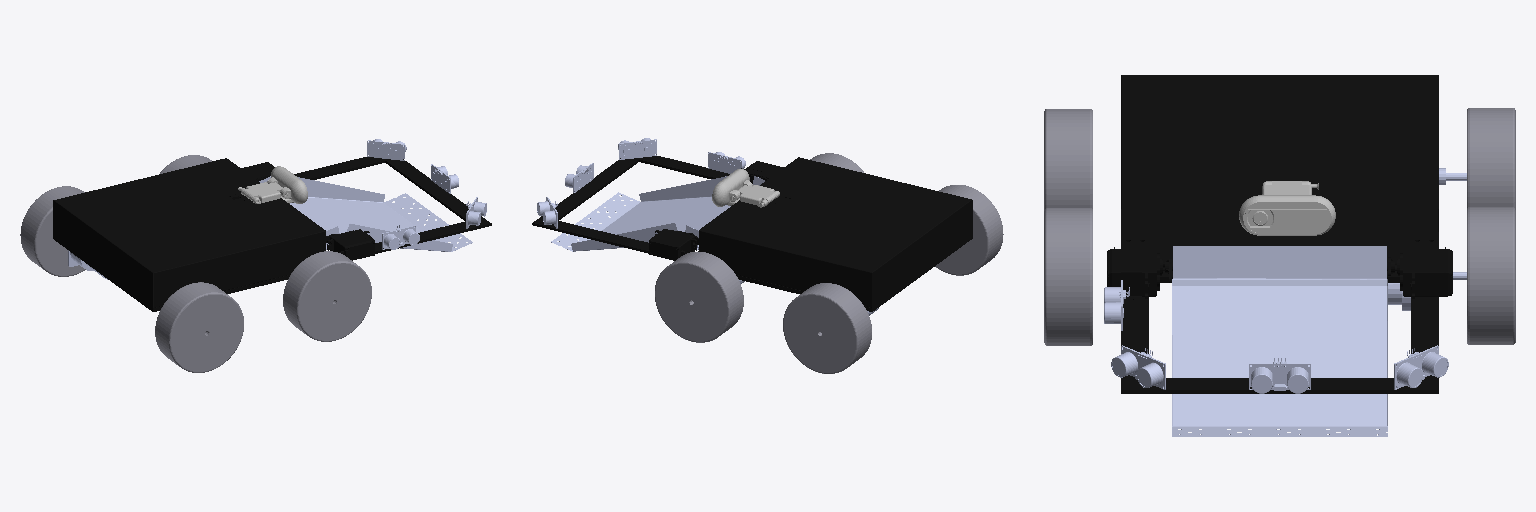
--- Facts derived from the render (not from the file) ---
The picture shows the robot from 3 angles, left to right: view 1: azimuth 30°, elevation 25°; view 2: azimuth 150°, elevation 25°; view 3: azimuth 270°, elevation 25°; orthographic projection.
Model swcr with 20 links and 19 joints (1 revolute, 4 continuous, 14 fixed), rooted at base_link, posed every joint at zero.
Links seen in each view (by area): view 1: base_link, wheelbr_link, wheelfr_link, pan_link, wheelbl_link, camera_link, sonar4_link, sonar1_link; view 2: base_link, wheelbl_link, wheelfl_link, pan_link, wheelbr_link, camera_link, sonar2_link, sonar1_link; view 3: base_link, pan_link, wheelfl_link, wheelfr_link, wheelbl_link, wheelbr_link, camera_link, sonar3_link, sonar2_link, sonar4_link, sonar1_link, motorfl_link.
Link boxes in pixels (x1,y1,x2,y2): base_link: (53,157,491,311); wheelbr_link: (155,282,243,372); wheelfr_link: (283,251,371,341); pan_link: (259,176,472,251); wheelbl_link: (20,186,85,276); camera_link: (238,166,307,203); sonar4_link: (367,139,406,160); sonar1_link: (382,225,419,249); base_link: (532,156,972,311); wheelbl_link: (783,283,871,373); wheelfl_link: (655,252,743,342); pan_link: (551,176,764,251); wheelbr_link: (935,185,1003,275); camera_link: (712,169,779,207); sonar2_link: (618,138,656,159); sonar1_link: (708,152,745,173); base_link: (1107,75,1452,393); pan_link: (1172,246,1387,436); wheelfl_link: (1467,207,1515,344); wheelfr_link: (1044,208,1092,345); wheelbl_link: (1467,108,1515,209); wheelbr_link: (1044,109,1092,210); camera_link: (1239,181,1335,235); sonar3_link: (1249,358,1310,393); sonar2_link: (1111,345,1165,389); sonar4_link: (1394,345,1448,389); sonar1_link: (1104,280,1129,330); motorfl_link: (1388,272,1466,310).
Size in the robot's own frame: 0.4747 by 0.3406 by 0.1337 metres.
Meshes: 20 distinct files referenced, 16 mesh visuals loaded (16 binary STL); not drawn: 4 (reference not matched to a file when rendering).

robot.urdf — swcr:
<?xml version="1.0" encoding="utf-8"?>
<!-- This URDF was automatically created by SolidWorks to URDF Exporter! Originally created by Stephen Brawner ([email redacted]) 
     Commit Version: 1.5.1-0-g916b5db  Build Version: 1.5.7152.31018
     For more information, please see http://wiki.ros.org/sw_urdf_exporter -->
<robot
  name="swcr">
  <link
    name="base_link">
    <inertial>
      <origin
        xyz="0.033488 0.002401 3.727E-05"
        rpy="0 0 0" />
      <mass
        value="0.43099" />
      <inertia
        ixx="0.0023524"
        ixy="-7.52E-05"
        ixz="-1.7767E-06"
        iyy="0.0069009"
        iyz="-2.5498E-07"
        izz="0.0045936" />
    </inertial>
    <visual>
      <origin
        xyz="0 0 0"
        rpy="0 0 0" />
      <geometry>
        <mesh
          filename="package://swcr/meshes/base_link.STL" />
      </geometry>
      <material
        name="">
        <color
          rgba="0.10196 0.10196 0.10196 1" />
      </material>
    </visual>
    <collision>
      <origin
        xyz="0 0 0"
        rpy="0 0 0" />
      <geometry>
        <mesh
          filename="package://swcr/meshes/base_link.STL" />
      </geometry>
    </collision>
  </link>
  <link
    name="clampfl_link">
    <inertial>
      <origin
        xyz="0 -0.00794730952655254 -0.00531690587434677"
        rpy="0 0 0" />
      <mass
        value="0.00225642305883932" />
      <inertia
        ixx="5.27399681512764E-07"
        ixy="-3.48854888729488E-22"
        ixz="-1.00782078400116E-22"
        iyy="4.60834249766667E-07"
        iyz="1.05062552841159E-07"
        izz="8.15954753495241E-07" />
    </inertial>
    <visual>
      <origin
        xyz="0 0 0"
        rpy="0 0 0" />
      <geometry>
        <mesh
          filename="package://swcr/meshes/clampfl_link.STL" />
      </geometry>
      <material
        name="">
        <color
          rgba="0.792156862745098 0.819607843137255 0.933333333333333 1" />
      </material>
    </visual>
    <collision>
      <origin
        xyz="0 0 0"
        rpy="0 0 0" />
      <geometry>
        <mesh
          filename="package://swcr/meshes/clampfl_link.STL" />
      </geometry>
    </collision>
  </link>
  <joint
    name="clampfl_joint"
    type="fixed">
    <origin
      xyz="0.085 0.115 -0.0055"
      rpy="1.5708 0 3.1416" />
    <parent
      link="base_link" />
    <child
      link="clampfl_link" />
    <axis
      xyz="0 0 0" />
  </joint>
  <link
    name="motorfl_link">
    <inertial>
      <origin
        xyz="-2.77555756156289E-17 0.000222599770393128 -0.0130762328986528"
        rpy="0 0 0" />
      <mass
        value="0.0508582882474789" />
      <inertia
        ixx="2.23164516779721E-05"
        ixy="-8.470329472543E-22"
        ixz="9.26442286059391E-22"
        iyy="2.22397244366029E-05"
        iyz="-4.37293213045901E-07"
        izz="6.78559817500315E-06" />
    </inertial>
    <visual>
      <origin
        xyz="0 0 0"
        rpy="0 0 0" />
      <geometry>
        <mesh
          filename="package://swcr/meshes/motorfl_link.STL" />
      </geometry>
      <material
        name="">
        <color
          rgba="0.792156862745098 0.819607843137255 0.933333333333333 1" />
      </material>
    </visual>
    <collision>
      <origin
        xyz="0 0 0"
        rpy="0 0 0" />
      <geometry>
        <mesh
          filename="package://swcr/meshes/motorfl_link.STL" />
      </geometry>
    </collision>
  </link>
  <joint
    name="motorfl_joint"
    type="fixed">
    <origin
      xyz="0 -0.017565 -0.014"
      rpy="0 0 -0.39309" />
    <parent
      link="clampfl_link" />
    <child
      link="motorfl_link" />
    <axis
      xyz="0 0 0" />
  </joint>
  <link
    name="wheelfl_link">
    <inertial>
      <origin
        xyz="-0.0175 0 0"
        rpy="0 0 0" />
      <mass
        value="0.317103656626172" />
      <inertia
        ixx="0.000397061568421802"
        ixy="3.99430910495104E-22"
        ixz="-5.97755086664019E-21"
        iyy="0.000230784706182798"
        iyz="0"
        izz="0.000230784706182798" />
    </inertial>
    <visual>
      <origin
        xyz="0 0 0"
        rpy="0 0 0" />
      <geometry>
        <mesh
          filename="package://swcr/meshes/wheelfl_link.STL" />
      </geometry>
      <material
        name="">
        <color
          rgba="0.588235294117647 0.588235294117647 0.631372549019608 1" />
      </material>
    </visual>
    <collision>
      <origin
        xyz="0 0 0"
        rpy="0 0 0" />
      <geometry>
        <mesh
          filename="package://swcr/meshes/wheelfl_link.STL" />
      </geometry>
    </collision>
  </link>
  <joint
    name="wheelfl_joint"
    type="continuous">
    <origin
      xyz="0 0.007 0.0343"
      rpy="1.901 1.5708 0" />
    <parent
      link="motorfl_link" />
    <child
      link="wheelfl_link" />
    <axis
      xyz="1 0 0" />
  </joint>
  <link
    name="clampfr_link">
    <inertial>
      <origin
        xyz="0 -0.00794730952655252 -0.00531690587434674"
        rpy="0 0 0" />
      <mass
        value="0.00225642305883932" />
      <inertia
        ixx="5.27399681512763E-07"
        ixy="-3.76646610045922E-22"
        ixz="-7.60548081235195E-23"
        iyy="4.60834249766665E-07"
        iyz="1.0506255284116E-07"
        izz="8.1595475349524E-07" />
    </inertial>
    <visual>
      <origin
        xyz="0 0 0"
        rpy="0 0 0" />
      <geometry>
        <mesh
          filename="package://swcr/meshes/clampfr_link.STL" />
      </geometry>
      <material
        name="">
        <color
          rgba="0.792156862745098 0.819607843137255 0.933333333333333 1" />
      </material>
    </visual>
    <collision>
      <origin
        xyz="0 0 0"
        rpy="0 0 0" />
      <geometry>
        <mesh
          filename="package://swcr/meshes/clampfr_link.STL" />
      </geometry>
    </collision>
  </link>
  <joint
    name="clampfr_joint"
    type="fixed">
    <origin
      xyz="0.085 -0.115 -0.0055"
      rpy="1.5708 0 0" />
    <parent
      link="base_link" />
    <child
      link="clampfr_link" />
    <axis
      xyz="0 0 0" />
  </joint>
  <link
    name="motorfr_link">
    <inertial>
      <origin
        xyz="0 0.000222599770393128 -0.0130762328986528"
        rpy="0 0 0" />
      <mass
        value="0.0508582882474789" />
      <inertia
        ixx="2.23164516779721E-05"
        ixy="4.89465702383976E-23"
        ixz="9.48921012034999E-22"
        iyy="2.22397244366029E-05"
        iyz="-4.37293213045901E-07"
        izz="6.78559817500315E-06" />
    </inertial>
    <visual>
      <origin
        xyz="0 0 0"
        rpy="0 0 0" />
      <geometry>
        <mesh
          filename="package://swcr/meshes/motorfr_link.STL" />
      </geometry>
      <material
        name="">
        <color
          rgba="0.792156862745098 0.819607843137255 0.933333333333333 1" />
      </material>
    </visual>
    <collision>
      <origin
        xyz="0 0 0"
        rpy="0 0 0" />
      <geometry>
        <mesh
          filename="package://swcr/meshes/motorfr_link.STL" />
      </geometry>
    </collision>
  </link>
  <joint
    name="motorfr_joint"
    type="fixed">
    <origin
      xyz="0 -0.017565 -0.014"
      rpy="0 0 0" />
    <parent
      link="clampfr_link" />
    <child
      link="motorfr_link" />
    <axis
      xyz="0 0 0" />
  </joint>
  <link
    name="wheelfr_link">
    <inertial>
      <origin
        xyz="-0.0175 0 0"
        rpy="0 0 0" />
      <mass
        value="0.317103656626173" />
      <inertia
        ixx="0.000397061568421803"
        ixy="-1.88067547833225E-21"
        ixz="4.10331208188529E-21"
        iyy="0.000230784706182798"
        iyz="2.03287907341032E-20"
        izz="0.000230784706182798" />
    </inertial>
    <visual>
      <origin
        xyz="0 0 0"
        rpy="0 0 0" />
      <geometry>
        <mesh
          filename="package://swcr/meshes/wheelfr_link.STL" />
      </geometry>
      <material
        name="">
        <color
          rgba="0.588235294117647 0.588235294117647 0.631372549019608 1" />
      </material>
    </visual>
    <collision>
      <origin
        xyz="0 0 0"
        rpy="0 0 0" />
      <geometry>
        <mesh
          filename="package://swcr/meshes/wheelfr_link.STL" />
      </geometry>
    </collision>
  </link>
  <joint
    name="wheelfr_joint"
    type="continuous">
    <origin
      xyz="0 0.007 0.0343"
      rpy="1.1331 1.5708 0" />
    <parent
      link="motorfr_link" />
    <child
      link="wheelfr_link" />
    <axis
      xyz="1 0 0" />
  </joint>
  <link
    name="clampbl_link">
    <inertial>
      <origin
        xyz="1.38777878078145E-17 -0.00794730952655256 -0.00531690587434672"
        rpy="0 0 0" />
      <mass
        value="0.00225642305883932" />
      <inertia
        ixx="5.27399681512766E-07"
        ixy="-3.6279892711689E-22"
        ixz="-1.06821018648135E-22"
        iyy="4.60834249766667E-07"
        iyz="1.0506255284116E-07"
        izz="8.15954753495242E-07" />
    </inertial>
    <visual>
      <origin
        xyz="0 0 0"
        rpy="0 0 0" />
      <geometry>
        <mesh
          filename="package://swcr/meshes/clampbl_link.STL" />
      </geometry>
      <material
        name="">
        <color
          rgba="0.792156862745098 0.819607843137255 0.933333333333333 1" />
      </material>
    </visual>
    <collision>
      <origin
        xyz="0 0 0"
        rpy="0 0 0" />
      <geometry>
        <mesh
          filename="package://swcr/meshes/clampbl_link.STL" />
      </geometry>
    </collision>
  </link>
  <joint
    name="clampbl_joint"
    type="fixed">
    <origin
      xyz="-0.085 0.115 -0.0055"
      rpy="1.5708 0 3.1416" />
    <parent
      link="base_link" />
    <child
      link="clampbl_link" />
    <axis
      xyz="0 0 0" />
  </joint>
  <link
    name="motorbl_link">
    <inertial>
      <origin
        xyz="0 0.000222599770393128 -0.0130762328986527"
        rpy="0 0 0" />
      <mass
        value="0.0508582882474789" />
      <inertia
        ixx="2.23164516779721E-05"
        ixy="-8.470329472543E-22"
        ixz="9.52912065661088E-22"
        iyy="2.22397244366029E-05"
        iyz="-4.37293213045901E-07"
        izz="6.78559817500315E-06" />
    </inertial>
    <visual>
      <origin
        xyz="0 0 0"
        rpy="0 0 0" />
      <geometry>
        <mesh
          filename="package://swcr/meshes/motorbl_link.STL" />
      </geometry>
      <material
        name="">
        <color
          rgba="0.792156862745098 0.819607843137255 0.933333333333333 1" />
      </material>
    </visual>
    <collision>
      <origin
        xyz="0 0 0"
        rpy="0 0 0" />
      <geometry>
        <mesh
          filename="package://swcr/meshes/motorbl_link.STL" />
      </geometry>
    </collision>
  </link>
  <joint
    name="motorbl_joint"
    type="fixed">
    <origin
      xyz="0 -0.017565 -0.014"
      rpy="0 0 -0.39309" />
    <parent
      link="clampbl_link" />
    <child
      link="motorbl_link" />
    <axis
      xyz="0 0 0" />
  </joint>
  <link
    name="wheelbl_link">
    <inertial>
      <origin
        xyz="-0.0175 1.38777878078145E-17 0"
        rpy="0 0 0" />
      <mass
        value="0.317103656626173" />
      <inertia
        ixx="0.000397061568421803"
        ixy="-4.25765791653797E-21"
        ixz="2.67145513017559E-21"
        iyy="0.000230784706182798"
        iyz="0"
        izz="0.000230784706182798" />
    </inertial>
    <visual>
      <origin
        xyz="0 0 0"
        rpy="0 0 0" />
      <geometry>
        <mesh
          filename="package://swcr/meshes/wheelbl_link.STL" />
      </geometry>
      <material
        name="">
        <color
          rgba="0.588235294117647 0.588235294117647 0.631372549019608 1" />
      </material>
    </visual>
    <collision>
      <origin
        xyz="0 0 0"
        rpy="0 0 0" />
      <geometry>
        <mesh
          filename="package://swcr/meshes/wheelbl_link.STL" />
      </geometry>
    </collision>
  </link>
  <joint
    name="wheelbl_joint"
    type="continuous">
    <origin
      xyz="0 0.007 0.0343"
      rpy="0.63091 1.5708 0" />
    <parent
      link="motorbl_link" />
    <child
      link="wheelbl_link" />
    <axis
      xyz="1 0 0" />
  </joint>
  <link
    name="clampbr_link">
    <inertial>
      <origin
        xyz="-1.38777878078145E-17 -0.00794730952655256 -0.00531690587434672"
        rpy="0 0 0" />
      <mass
        value="0.00225642305883932" />
      <inertia
        ixx="5.27399681512766E-07"
        ixy="-3.63478487994398E-22"
        ixz="-1.06437772260566E-22"
        iyy="4.60834249766667E-07"
        iyz="1.0506255284116E-07"
        izz="8.15954753495242E-07" />
    </inertial>
    <visual>
      <origin
        xyz="0 0 0"
        rpy="0 0 0" />
      <geometry>
        <mesh
          filename="package://swcr/meshes/clampbr_link.STL" />
      </geometry>
      <material
        name="">
        <color
          rgba="0.792156862745098 0.819607843137255 0.933333333333333 1" />
      </material>
    </visual>
    <collision>
      <origin
        xyz="0 0 0"
        rpy="0 0 0" />
      <geometry>
        <mesh
          filename="package://swcr/meshes/clampbr_link.STL" />
      </geometry>
    </collision>
  </link>
  <joint
    name="clampbr_joint"
    type="fixed">
    <origin
      xyz="-0.085 -0.115 -0.0055"
      rpy="1.5708 0 0" />
    <parent
      link="base_link" />
    <child
      link="clampbr_link" />
    <axis
      xyz="0 0 0" />
  </joint>
  <link
    name="motorbr_link">
    <inertial>
      <origin
        xyz="0 0.000222599770393132 -0.0130762328986527"
        rpy="0 0 0" />
      <mass
        value="0.0508582882474789" />
      <inertia
        ixx="2.23164516779721E-05"
        ixy="4.99476810932792E-23"
        ixz="9.96559716097902E-22"
        iyy="2.22397244366029E-05"
        iyz="-4.37293213045901E-07"
        izz="6.78559817500315E-06" />
    </inertial>
    <visual>
      <origin
        xyz="0 0 0"
        rpy="0 0 0" />
      <geometry>
        <mesh
          filename="package://swcr/meshes/motorbr_link.STL" />
      </geometry>
      <material
        name="">
        <color
          rgba="0.792156862745098 0.819607843137255 0.933333333333333 1" />
      </material>
    </visual>
    <collision>
      <origin
        xyz="0 0 0"
        rpy="0 0 0" />
      <geometry>
        <mesh
          filename="package://swcr/meshes/motorbr_link.STL" />
      </geometry>
    </collision>
  </link>
  <joint
    name="motorbr_joint"
    type="fixed">
    <origin
      xyz="0 -0.017565 -0.014"
      rpy="0 0 0" />
    <parent
      link="clampbr_link" />
    <child
      link="motorbr_link" />
    <axis
      xyz="0 0 0" />
  </joint>
  <link
    name="wheelbr_link">
    <inertial>
      <origin
        xyz="-0.0175 1.73472347597681E-18 -1.38777878078145E-17"
        rpy="0 0 0" />
      <mass
        value="0.317103656626173" />
      <inertia
        ixx="0.000397061568421802"
        ixy="1.60603699048795E-20"
        ixz="-1.24830646996344E-20"
        iyy="0.000230784706182798"
        iyz="1.6940658945086E-21"
        izz="0.000230784706182798" />
    </inertial>
    <visual>
      <origin
        xyz="0 0 0"
        rpy="0 0 0" />
      <geometry>
        <mesh
          filename="package://swcr/meshes/wheelbr_link.STL" />
      </geometry>
      <material
        name="">
        <color
          rgba="0.588235294117647 0.588235294117647 0.631372549019608 1" />
      </material>
    </visual>
    <collision>
      <origin
        xyz="0 0 0"
        rpy="0 0 0" />
      <geometry>
        <mesh
          filename="package://swcr/meshes/wheelbr_link.STL" />
      </geometry>
    </collision>
  </link>
  <joint
    name="wheelbr_joint"
    type="continuous">
    <origin
      xyz="0 0.007 0.0343"
      rpy="3.0343 1.5708 0" />
    <parent
      link="motorbr_link" />
    <child
      link="wheelbr_link" />
    <axis
      xyz="1 0 0" />
  </joint>
  <link
    name="pan_link">
    <inertial>
      <origin
        xyz="0.0703865456483978 -0.040983662047795 -9.14646763558058E-06"
        rpy="0 0 0" />
      <mass
        value="0.00414015837851596" />
      <inertia
        ixx="1.41251649608978E-05"
        ixy="6.18415608321664E-06"
        ixz="4.07652089216916E-09"
        iyy="2.34368804471581E-05"
        iyz="-1.82327329282432E-09"
        izz="1.57097655917661E-05" />
    </inertial>
    <visual>
      <origin
        xyz="0 0 0"
        rpy="0 0 0" />
      <geometry>
        <mesh
          filename="package://swcr/meshes/pan_link.STL" />
      </geometry>
      <material
        name="">
        <color
          rgba="0.792156862745098 0.819607843137255 0.933333333333333 1" />
      </material>
    </visual>
    <collision>
      <origin
        xyz="0 0 0"
        rpy="0 0 0" />
      <geometry>
        <mesh
          filename="package://swcr/meshes/pan_link.STL" />
      </geometry>
    </collision>
  </link>
  <joint
    name="pan_joint"
    type="revolute">
    <origin
      xyz="0.135 0 0.0155"
      rpy="1.5708 -0.18451 0" />
    <parent
      link="base_link" />
    <child
      link="pan_link" />
    <axis
      xyz="0 0 1" />
    <limit
      lower="0"
      upper="0"
      effort="0"
      velocity="0" />
  </joint>
  <link
    name="sonar1_link">
    <inertial>
      <origin
        xyz="-4.2013767370952E-06 0.00567622480203889 -5.24987503883294E-05"
        rpy="0 0 0" />
      <mass
        value="0.00622773690362078" />
      <inertia
        ixx="2.38540425535703E-07"
        ixy="-1.31879684713869E-10"
        ixz="-1.99662276893582E-10"
        iyy="1.22055290848562E-06"
        iyz="2.02464983853627E-09"
        izz="1.19426247251853E-06" />
    </inertial>
    <visual>
      <origin
        xyz="0 0 0"
        rpy="0 0 0" />
      <geometry>
        <mesh
          filename="package://swcr/meshes/sonar1_link.STL" />
      </geometry>
      <material
        name="">
        <color
          rgba="0.792156862745098 0.819607843137255 0.933333333333333 1" />
      </material>
    </visual>
    <collision>
      <origin
        xyz="0 0 0"
        rpy="0 0 0" />
      <geometry>
        <mesh
          filename="package://swcr/meshes/sonar1_link.STL" />
      </geometry>
    </collision>
  </link>
  <joint
    name="sonar1_joint"
    type="fixed">
    <origin
      xyz="0.2025 -0.1135 0.01585"
      rpy="0 0 -3.1416" />
    <parent
      link="base_link" />
    <child
      link="sonar1_link" />
    <axis
      xyz="0 0 0" />
  </joint>
  <link
    name="sonar2_link">
    <inertial>
      <origin
        xyz="-4.20137673698417E-06 0.00567622480203883 -5.2498750388312E-05"
        rpy="0 0 0" />
      <mass
        value="0.00622773690362079" />
      <inertia
        ixx="2.38540425535703E-07"
        ixy="-1.31879684708852E-10"
        ixz="-1.99662276893324E-10"
        iyy="1.22055290848562E-06"
        iyz="2.02464983853643E-09"
        izz="1.19426247251854E-06" />
    </inertial>
    <visual>
      <origin
        xyz="0 0 0"
        rpy="0 0 0" />
      <geometry>
        <mesh
          filename="package://swcr/meshes/sonar2_link.STL" />
      </geometry>
      <material
        name="">
        <color
          rgba="0.792156862745098 0.819607843137255 0.933333333333333 1" />
      </material>
    </visual>
    <collision>
      <origin
        xyz="0 0 0"
        rpy="0 0 0" />
      <geometry>
        <mesh
          filename="package://swcr/meshes/sonar2_link.STL" />
      </geometry>
    </collision>
  </link>
  <joint
    name="sonar2_joint"
    type="fixed">
    <origin
      xyz="0.30803 -0.098029 0.01585"
      rpy="0 0 -2.3562" />
    <parent
      link="base_link" />
    <child
      link="sonar2_link" />
    <axis
      xyz="0 0 0" />
  </joint>
  <link
    name="sonar3_link">
    <inertial>
      <origin
        xyz="-4.19967189316105E-06 -0.00567646746763512 5.270535664436E-05"
        rpy="0 0 0" />
      <mass
        value="0.00622689555378257" />
      <inertia
        ixx="2.38530392018969E-07"
        ixy="1.31926825967941E-10"
        ixz="1.98478137228786E-10"
        iyy="1.22041336725841E-06"
        iyz="2.02380918538213E-09"
        izz="1.19409341838079E-06" />
    </inertial>
    <visual>
      <origin
        xyz="0 0 0"
        rpy="0 0 0" />
      <geometry>
        <mesh
          filename="package://swcr/meshes/sonar3_link.STL" />
      </geometry>
      <material
        name="">
        <color
          rgba="0.792156862745098 0.819607843137255 0.933333333333333 1" />
      </material>
    </visual>
    <collision>
      <origin
        xyz="0 0 0"
        rpy="0 0 0" />
      <geometry>
        <mesh
          filename="package://swcr/meshes/sonar3_link.STL" />
      </geometry>
    </collision>
  </link>
  <joint
    name="sonar3_joint"
    type="fixed">
    <origin
      xyz="0.3235 0 0.01585"
      rpy="3.1416 0 -1.5708" />
    <parent
      link="base_link" />
    <child
      link="sonar3_link" />
    <axis
      xyz="0 0 0" />
  </joint>
  <link
    name="sonar4_link">
    <inertial>
      <origin
        xyz="-4.20137673701193E-06 0.00567622480203889 -5.2498750388319E-05"
        rpy="0 0 0" />
      <mass
        value="0.00622773690362079" />
      <inertia
        ixx="2.38540425535703E-07"
        ixy="-1.31879684705047E-10"
        ixz="-1.99662276893037E-10"
        iyy="1.22055290848562E-06"
        iyz="2.02464983853631E-09"
        izz="1.19426247251853E-06" />
    </inertial>
    <visual>
      <origin
        xyz="0 0 0"
        rpy="0 0 0" />
      <geometry>
        <mesh
          filename="package://swcr/meshes/sonar4_link.STL" />
      </geometry>
      <material
        name="">
        <color
          rgba="0.792156862745098 0.819607843137255 0.933333333333333 1" />
      </material>
    </visual>
    <collision>
      <origin
        xyz="0 0 0"
        rpy="0 0 0" />
      <geometry>
        <mesh
          filename="package://swcr/meshes/sonar4_link.STL" />
      </geometry>
    </collision>
  </link>
  <joint
    name="sonar4_joint"
    type="fixed">
    <origin
      xyz="0.30803 0.098029 0.01585"
      rpy="0 0 -0.7854" />
    <parent
      link="base_link" />
    <child
      link="sonar4_link" />
    <axis
      xyz="0 0 0" />
  </joint>
  <link
    name="soanr5_link">
    <inertial>
      <origin
        xyz="-4.20137673701193E-06 0.0056762248020389 -5.24987503883259E-05"
        rpy="0 0 0" />
      <mass
        value="0.00622773690362079" />
      <inertia
        ixx="2.38540425535703E-07"
        ixy="-1.31879684706997E-10"
        ixz="-1.99662276893271E-10"
        iyy="1.22055290848562E-06"
        iyz="2.02464983853627E-09"
        izz="1.19426247251854E-06" />
    </inertial>
    <visual>
      <origin
        xyz="0 0 0"
        rpy="0 0 0" />
      <geometry>
        <mesh
          filename="package://swcr/meshes/soanr5_link.STL" />
      </geometry>
      <material
        name="">
        <color
          rgba="0.792156862745098 0.819607843137255 0.933333333333333 1" />
      </material>
    </visual>
    <collision>
      <origin
        xyz="0 0 0"
        rpy="0 0 0" />
      <geometry>
        <mesh
          filename="package://swcr/meshes/soanr5_link.STL" />
      </geometry>
    </collision>
  </link>
  <joint
    name="sonar5_joint"
    type="fixed">
    <origin
      xyz="0.2025 0.1135 0.01585"
      rpy="0 0 0" />
    <parent
      link="base_link" />
    <child
      link="soanr5_link" />
    <axis
      xyz="0 0 0" />
  </joint>
  <link
    name="camera_link">
    <inertial>
      <origin
        xyz="-0.0878668994547783 0.0718483842853071 0.0791288325428356"
        rpy="0 0 0" />
      <mass
        value="0.0487330234277384" />
      <inertia
        ixx="1.62373140931273E-05"
        ixy="-2.81173883546056E-08"
        ixz="-7.47687719630495E-08"
        iyy="2.43825952251294E-05"
        iyz="-1.92052078939861E-06"
        izz="1.3626110439769E-05" />
    </inertial>
    <visual>
      <origin
        xyz="0 0 0"
        rpy="0 0 0" />
      <geometry>
        <mesh
          filename="package://swcr/meshes/camera_link.STL" />
      </geometry>
      <material
        name="">
        <color
          rgba="0.752941176470588 0.752941176470588 0.752941176470588 1" />
      </material>
    </visual>
    <collision>
      <origin
        xyz="0 0 0"
        rpy="0 0 0" />
      <geometry>
        <mesh
          filename="package://swcr/meshes/camera_link.STL" />
      </geometry>
    </collision>
  </link>
  <joint
    name="camera_joint"
    type="fixed">
    <origin
      xyz="0.028971 0.093208 -0.018149"
      rpy="1.6259 0 1.5708" />
    <parent
      link="base_link" />
    <child
      link="camera_link" />
    <axis
      xyz="0 0 0" />
  </joint>
</robot>
